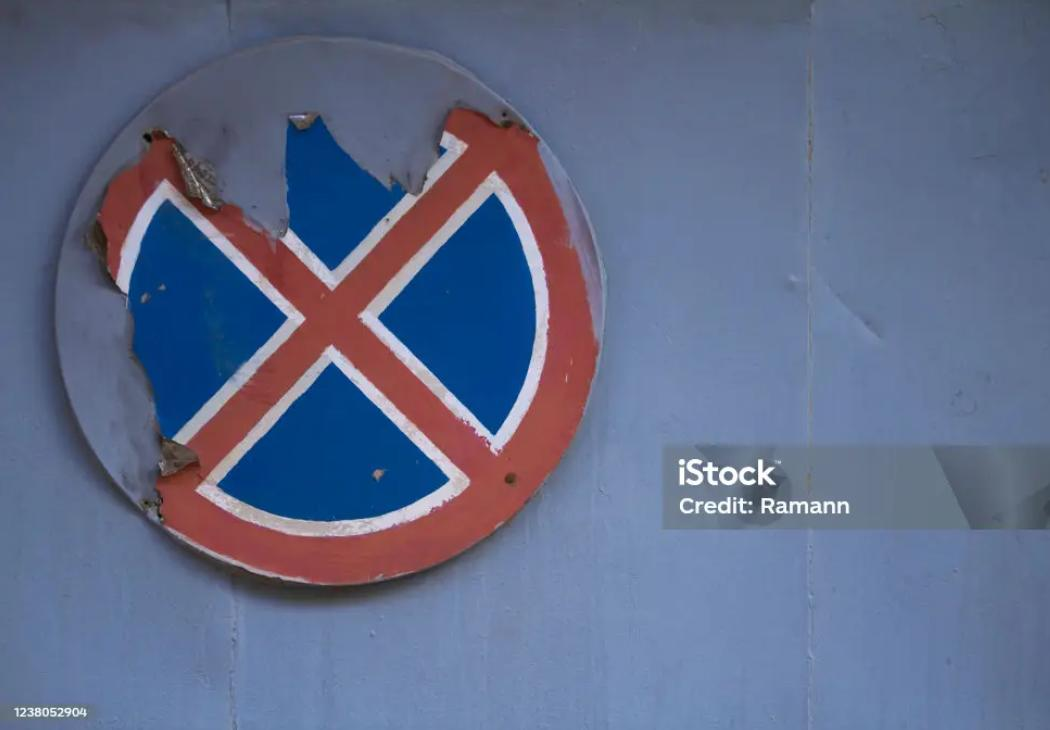obstructed_road_sign: (58, 38, 602, 584)
